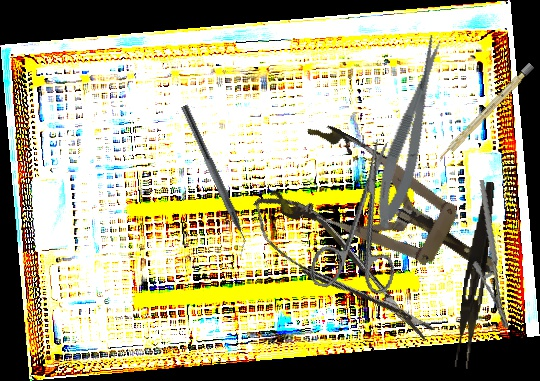Chopper: (171, 104, 256, 258)
Dressing Forceps: (453, 180, 498, 370)
Iris Scissors: (307, 131, 425, 303)
Micro Scissor: (240, 177, 444, 362), (365, 32, 456, 233)
Needle Holder: (454, 179, 535, 329)
Scalpel Handle: (436, 62, 535, 164)
Speculum: (264, 115, 518, 314)
